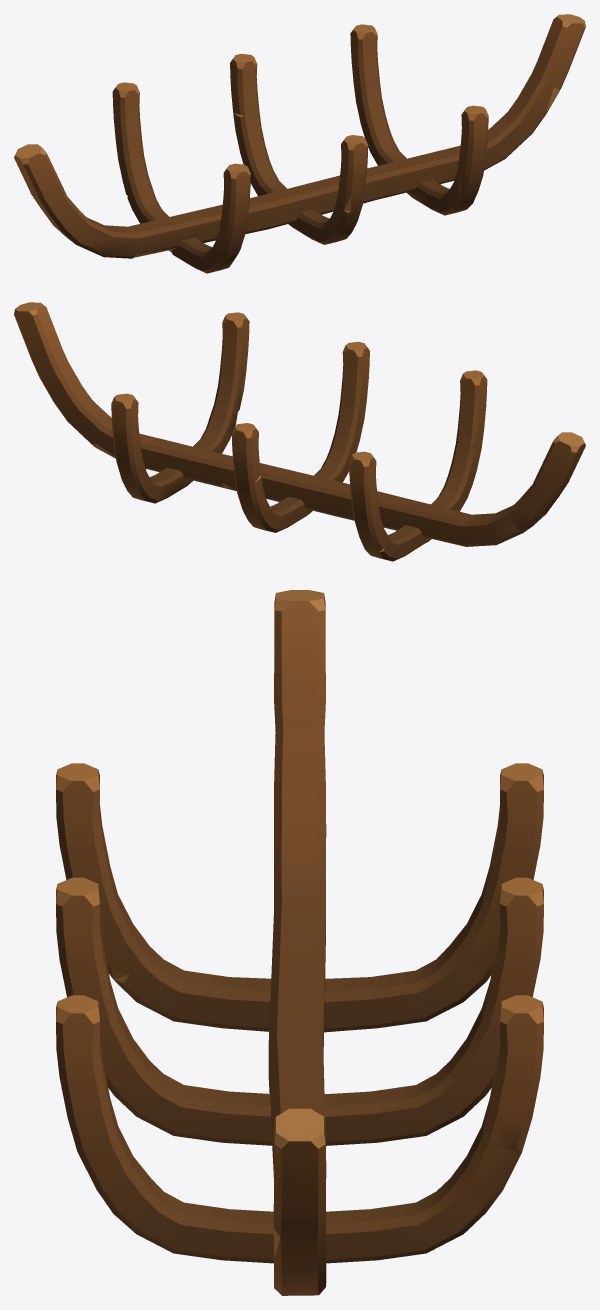
File: BoatFrame_A.glb
3 renders of one model, top to bottom at view 1: azimuth 30°, elevation 25°; view 2: azimuth 150°, elevation 25°; view 3: azimuth 270°, elevation 25°, orthographic. The views are drawn at different scales.
Parts seen in each view (by area): view 1: BoatFrame_A; view 2: BoatFrame_A; view 3: BoatFrame_A.
Boxes of the visible parts, <box> form: BoatFrame_A: <box>14,14,585,273</box>; BoatFrame_A: <box>14,302,585,561</box>; BoatFrame_A: <box>56,590,543,1295</box>.
Bounding box in the file's own units: 6.03 × 1.47 × 2.26.
Materials: 1 (1 with a texture image).
